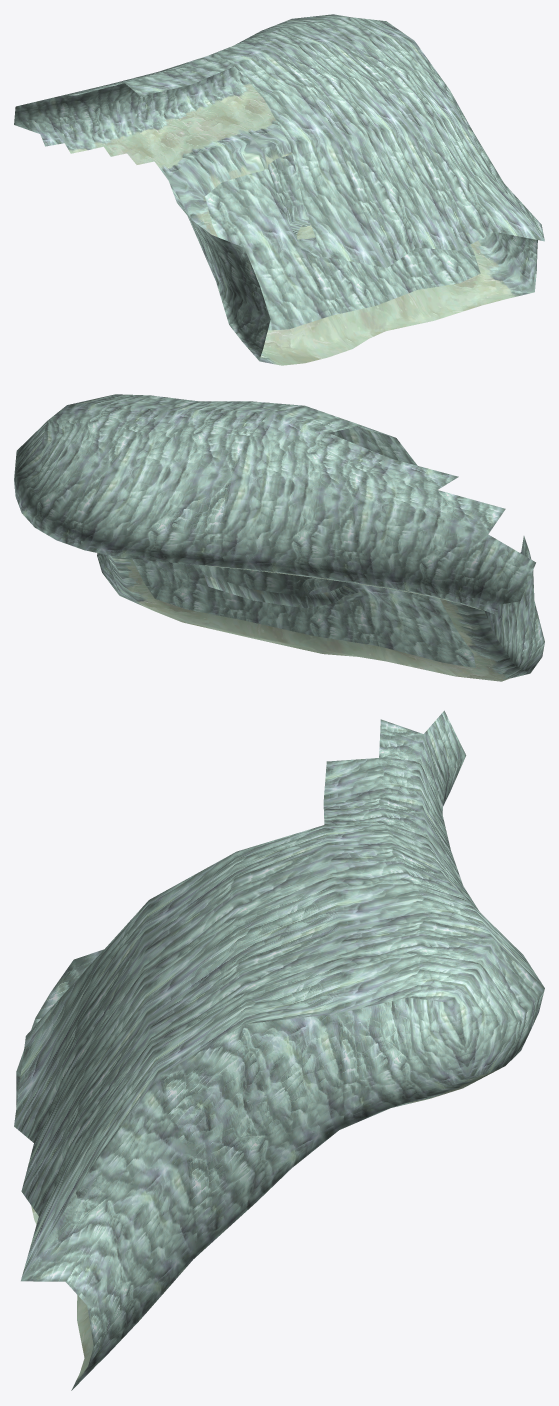
File: TROLLHOLE02_PS-MAINCAVE12.fbx
3 renders of one model, top to bottom at view 1: azimuth 30°, elevation 25°; view 2: azimuth 150°, elevation 25°; view 3: azimuth 270°, elevation 25°, orthographic. The views are drawn at different scales.
Parts seen in each view (by area): view 1: TROLLHOLE02_PS-MAINCAVE12; view 2: TROLLHOLE02_PS-MAINCAVE12; view 3: TROLLHOLE02_PS-MAINCAVE12.
Boxes of the visible parts, x1,y1,x2,y2 form: TROLLHOLE02_PS-MAINCAVE12: (14, 14, 544, 365); TROLLHOLE02_PS-MAINCAVE12: (14, 394, 544, 681); TROLLHOLE02_PS-MAINCAVE12: (14, 710, 544, 1390).
Bounding box in the file's own units: 379615 × 206289 × 247788.
Materials: 7 (7 with a texture image).
